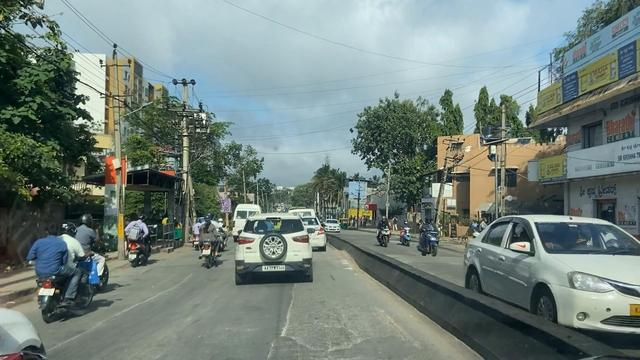LMV: (33, 227, 95, 315), (238, 214, 311, 282), (125, 215, 152, 265), (200, 215, 219, 265)
RoadDamages: (45, 273, 193, 349), (268, 285, 403, 357)
